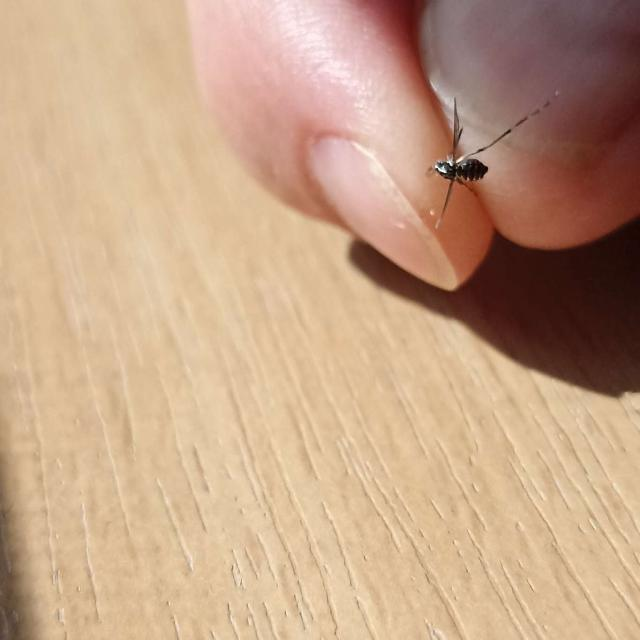albopictus: (420, 79, 553, 232)
